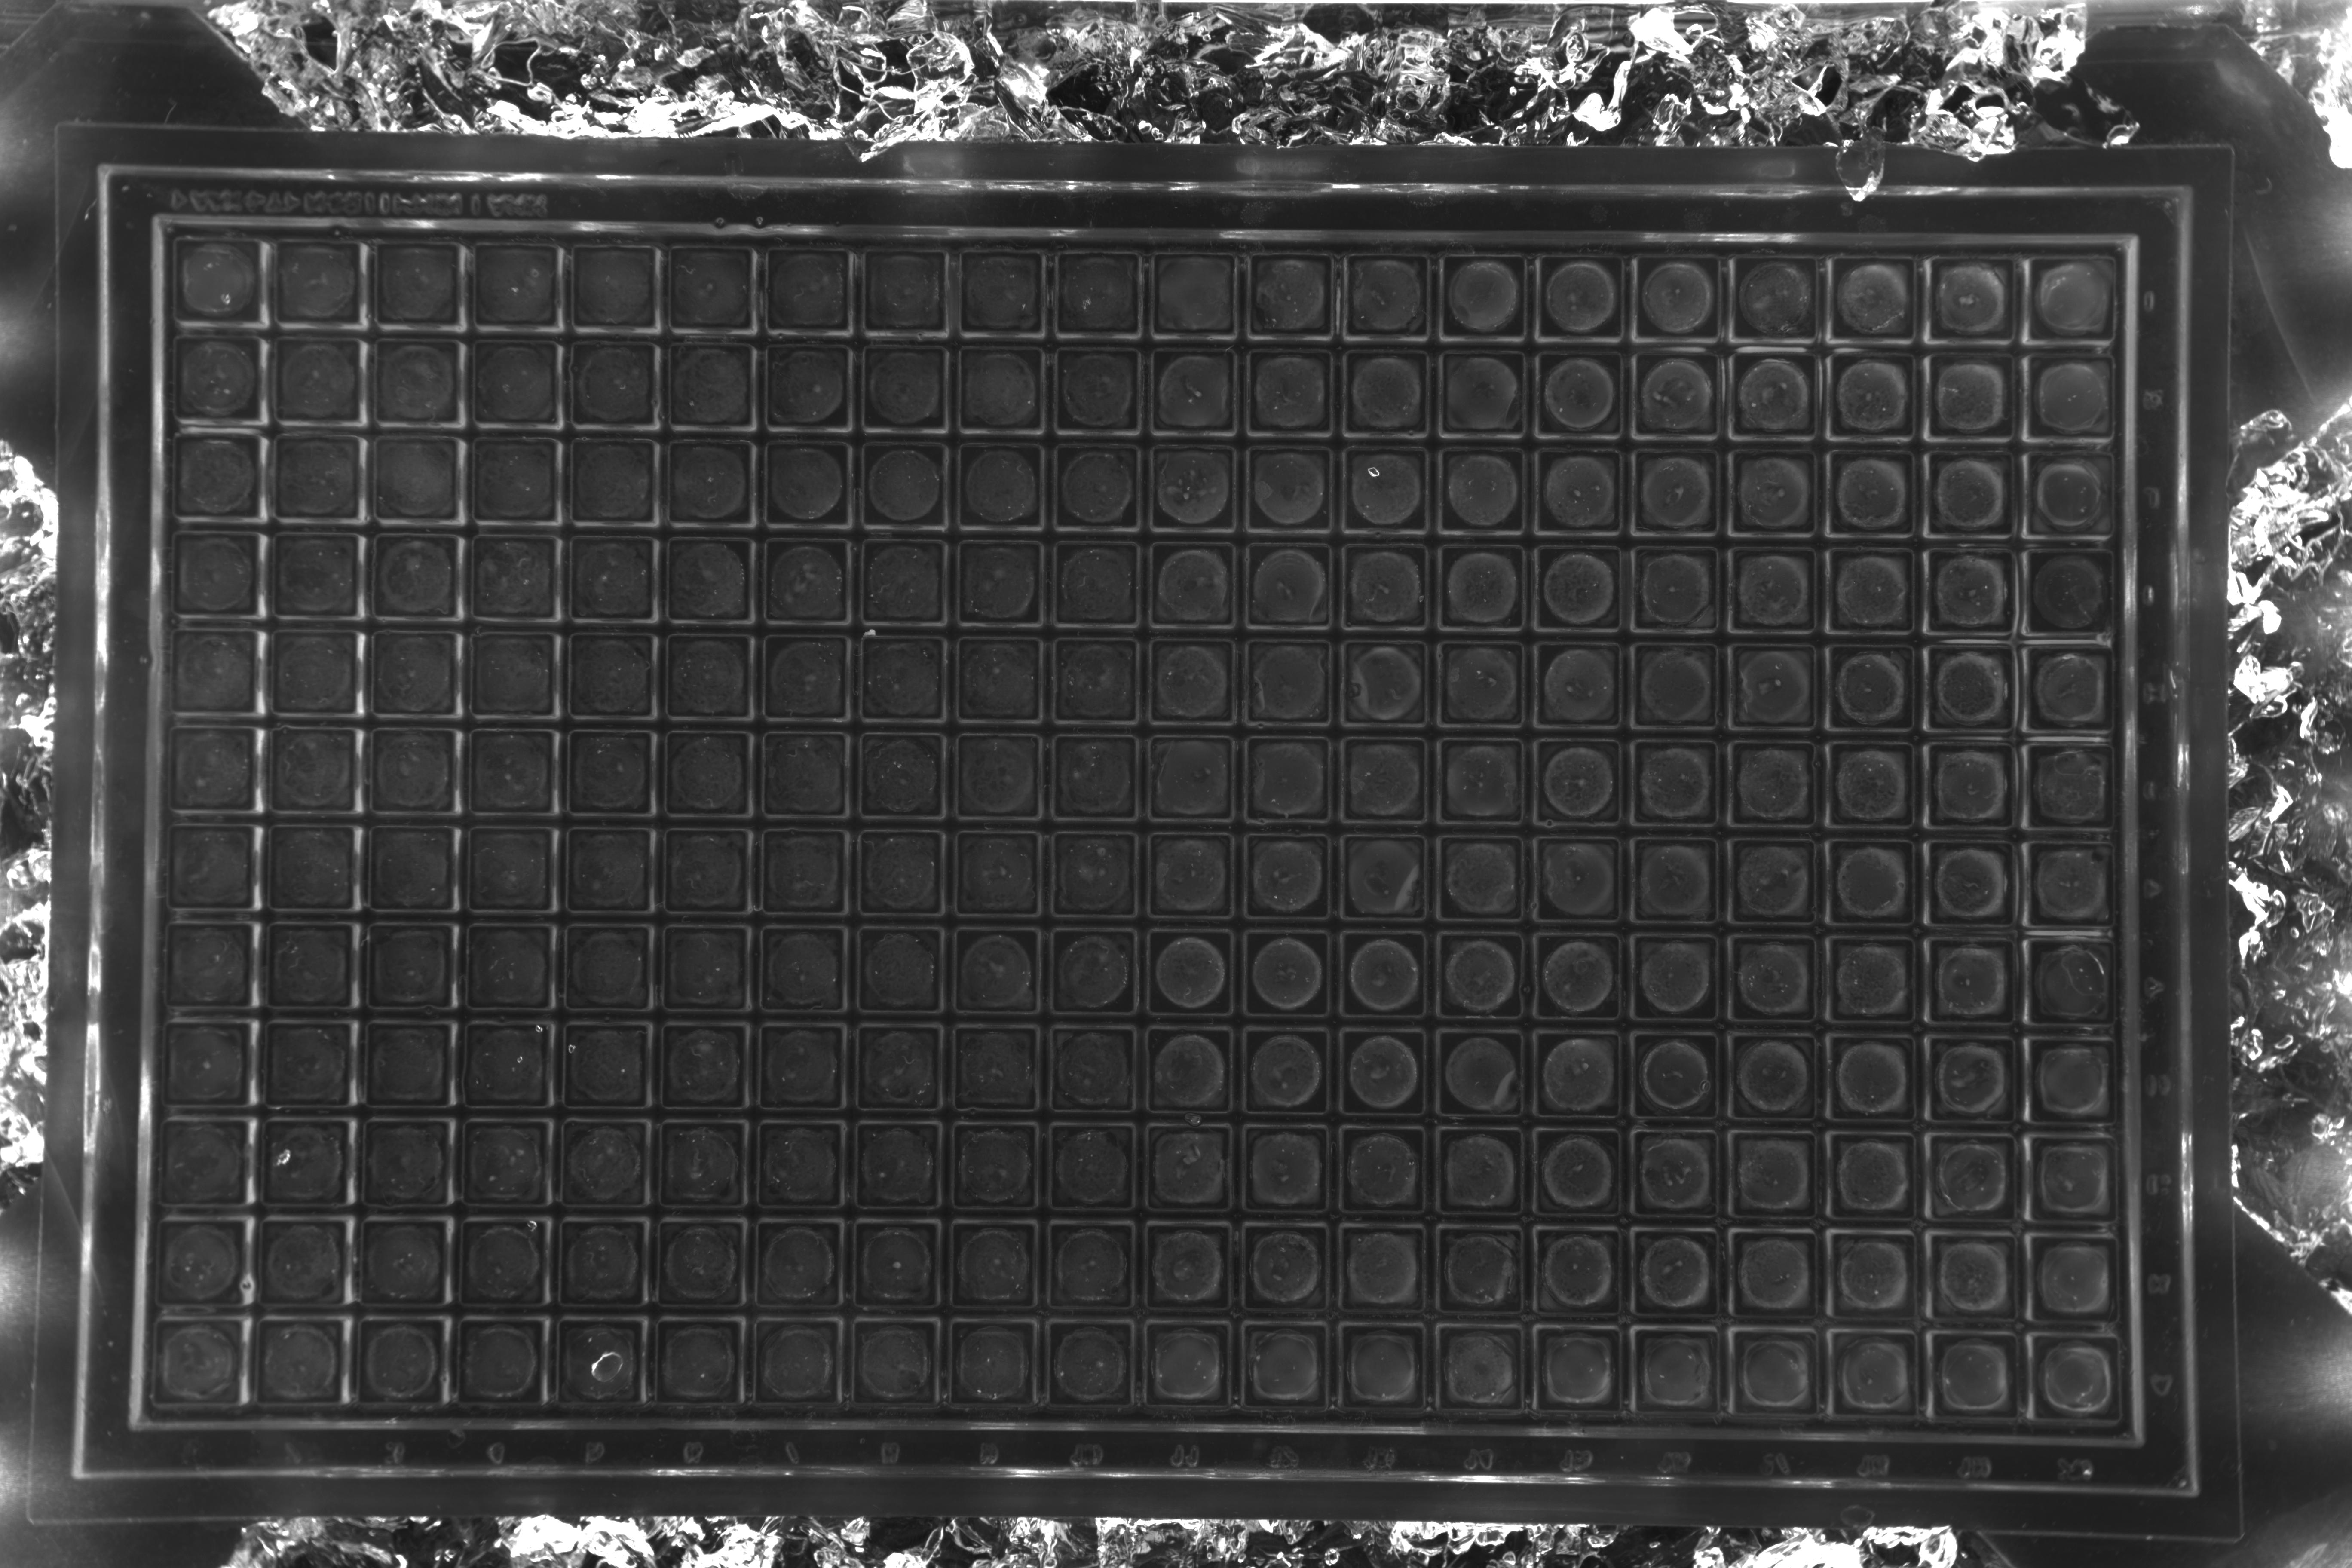WM_well: (203, 651, 292, 738), (299, 845, 388, 933), (493, 945, 583, 1032), (497, 653, 586, 740), (595, 460, 684, 548), (1176, 850, 1265, 938), (203, 747, 290, 835), (205, 360, 292, 448), (294, 1143, 381, 1230), (1080, 464, 1167, 551), (1080, 656, 1167, 744), (1080, 850, 1167, 938), (1176, 1339, 1263, 1426), (1274, 754, 1361, 842), (1370, 948, 1458, 1036), (1372, 1144, 1459, 1232), (1466, 656, 1554, 744), (1563, 366, 1650, 453), (1566, 1048, 1654, 1136), (1766, 1248, 1853, 1335), (1858, 560, 1946, 647), (1864, 1150, 1951, 1237), (1963, 1251, 2051, 1339), (2058, 758, 2145, 845)
